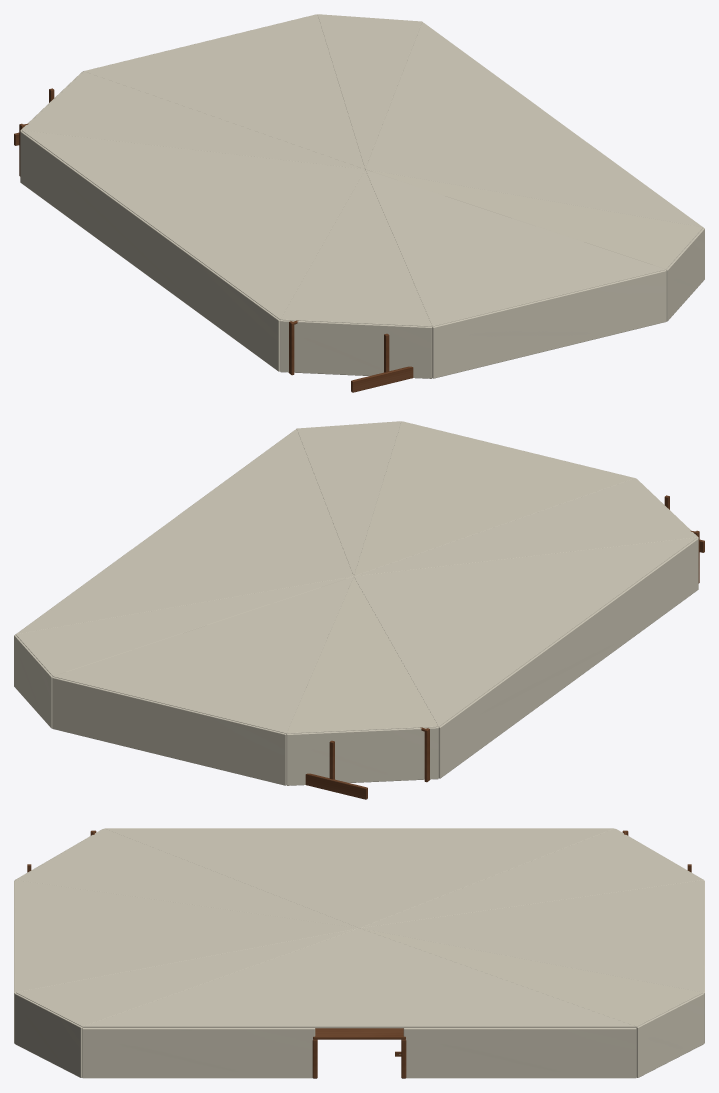
File: SOL_D12_directory_01_entry001.glb
The picture shows the model from 3 angles, top to bottom: view 1: azimuth 30°, elevation 25°; view 2: azimuth 150°, elevation 25°; view 3: azimuth 270°, elevation 25°; orthographic projection.
Visible parts, largest first — view 1: D12_directory_01__crown_wedge3, D12_directory_01__crown_wedge7, D12_directory_01__crown_wedge5, D12_directory_01__crown_wedge1, D12_directory_01__enclosure_3, D12_directory_01__enclosure_5, D12_directory_01__crown_wedge4, D12_directory_01__crown_wedge2, D12_directory_01__crown_wedge6, D12_directory_01__crown_wedge0, D12_directory_01__enclosure_4, D12_directory_01__enclosure_6 (+1 smaller); view 2: D12_directory_01__crown_wedge3, D12_directory_01__crown_wedge7, D12_directory_01__crown_wedge1, D12_directory_01__crown_wedge5, D12_directory_01__enclosure_3, D12_directory_01__enclosure_1, D12_directory_01__crown_wedge2, D12_directory_01__crown_wedge4, D12_directory_01__crown_wedge0, D12_directory_01__crown_wedge6, D12_directory_01__enclosure_2, D12_directory_01__enclosure_0 (+1 smaller); view 3: D12_directory_01__crown_wedge7, D12_directory_01__crown_wedge3, D12_directory_01__crown_wedge1, D12_directory_01__crown_wedge5, D12_directory_01__entry_left, D12_directory_01__entry_right, D12_directory_01__crown_wedge2, D12_directory_01__crown_wedge4, D12_directory_01__crown_wedge0, D12_directory_01__crown_wedge6, D12_directory_01__enclosure_0, D12_directory_01__enclosure_6 (+2 smaller).
Boxes of the visible parts, box(x1,y1,x2,y2) form: D12_directory_01__crown_wedge3: box(22, 130, 364, 319); D12_directory_01__crown_wedge7: box(365, 22, 702, 227); D12_directory_01__crown_wedge5: box(365, 169, 665, 326); D12_directory_01__crown_wedge1: box(84, 14, 364, 168); D12_directory_01__enclosure_3: box(20, 131, 280, 371); D12_directory_01__enclosure_5: box(432, 270, 666, 378); D12_directory_01__crown_wedge4: box(280, 170, 432, 326); D12_directory_01__crown_wedge2: box(22, 71, 364, 169); D12_directory_01__crown_wedge6: box(366, 169, 703, 269); D12_directory_01__crown_wedge0: box(317, 14, 421, 168); D12_directory_01__enclosure_4: box(280, 320, 432, 378); D12_directory_01__enclosure_6: box(666, 228, 704, 321); D12_directory_01__crown_wedge3: box(354, 537, 696, 726); D12_directory_01__crown_wedge7: box(16, 429, 353, 634); D12_directory_01__crown_wedge1: box(53, 576, 353, 733); D12_directory_01__crown_wedge5: box(354, 421, 634, 575); D12_directory_01__enclosure_3: box(438, 538, 698, 778); D12_directory_01__enclosure_1: box(52, 677, 286, 785); D12_directory_01__crown_wedge2: box(286, 577, 438, 733); D12_directory_01__crown_wedge4: box(354, 478, 696, 576); D12_directory_01__crown_wedge0: box(15, 576, 352, 676); D12_directory_01__crown_wedge6: box(297, 421, 401, 575); D12_directory_01__enclosure_2: box(286, 727, 438, 785); D12_directory_01__enclosure_0: box(14, 635, 52, 728); D12_directory_01__crown_wedge7: box(82, 928, 636, 1028); D12_directory_01__crown_wedge3: box(105, 828, 613, 928); D12_directory_01__crown_wedge1: box(360, 880, 702, 992); D12_directory_01__crown_wedge5: box(16, 880, 358, 992); D12_directory_01__entry_left: box(82, 1028, 315, 1078); D12_directory_01__entry_right: box(403, 1028, 636, 1078); D12_directory_01__crown_wedge2: box(361, 828, 702, 927); D12_directory_01__crown_wedge4: box(16, 828, 357, 927); D12_directory_01__crown_wedge0: box(360, 928, 702, 1026); D12_directory_01__crown_wedge6: box(16, 928, 358, 1026); D12_directory_01__enclosure_0: box(636, 993, 704, 1077); D12_directory_01__enclosure_6: box(14, 993, 82, 1077).
Size of the model in its own units: 42.73 by 5.43 by 62.36.
Materials: 20 (20 with a texture image).
